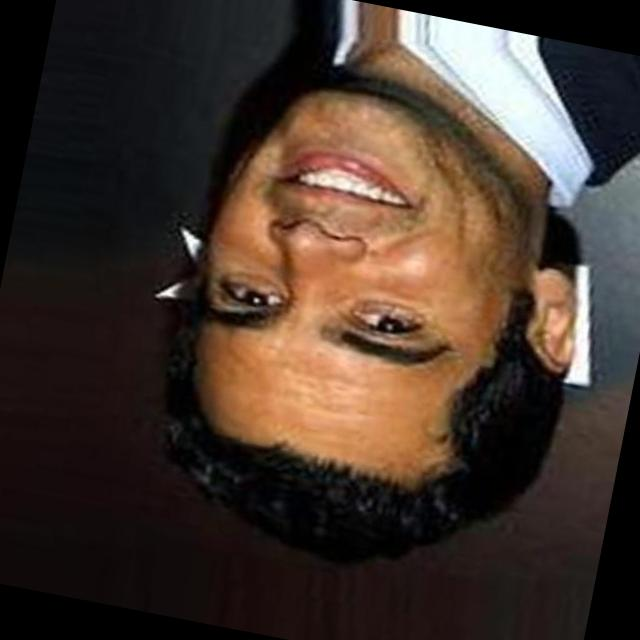bareface: (128, 64, 607, 590)
